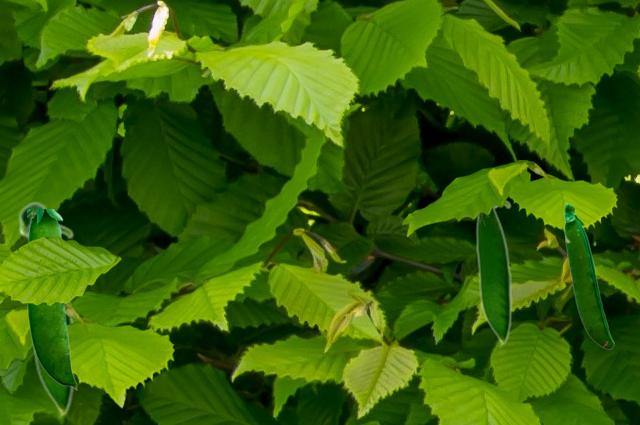pea: (17, 200, 74, 419), (27, 209, 76, 389), (563, 202, 613, 348), (473, 198, 511, 347)
